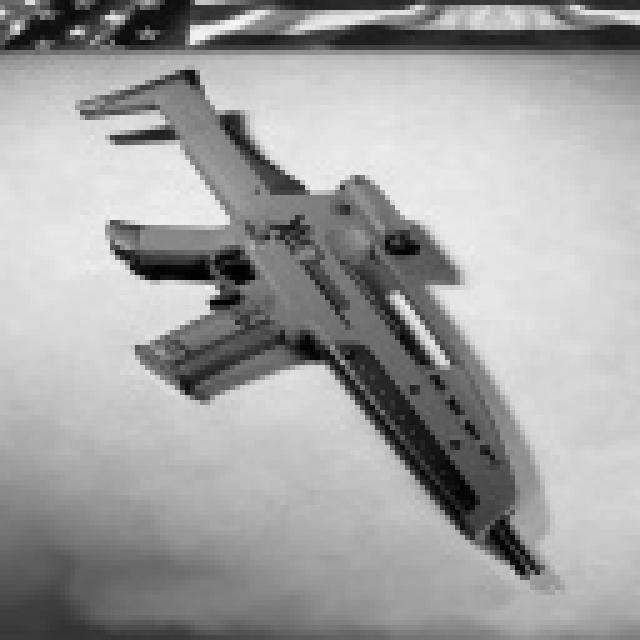Rifle: (0, 0, 585, 620)
